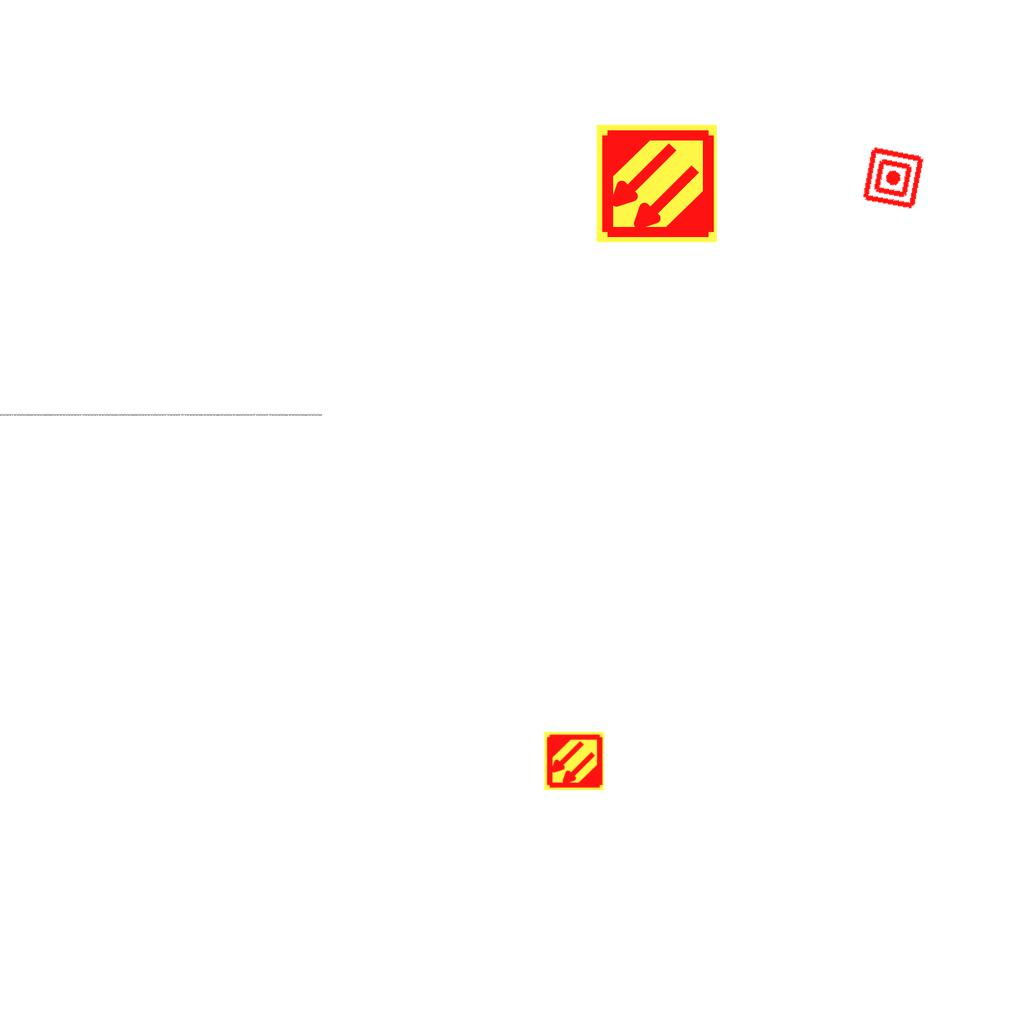ASR_Ansaugrauchmelder: (594, 121, 719, 246), (543, 730, 605, 792)
NAM-Nichtautomatischer_Melder: (860, 145, 926, 211)
